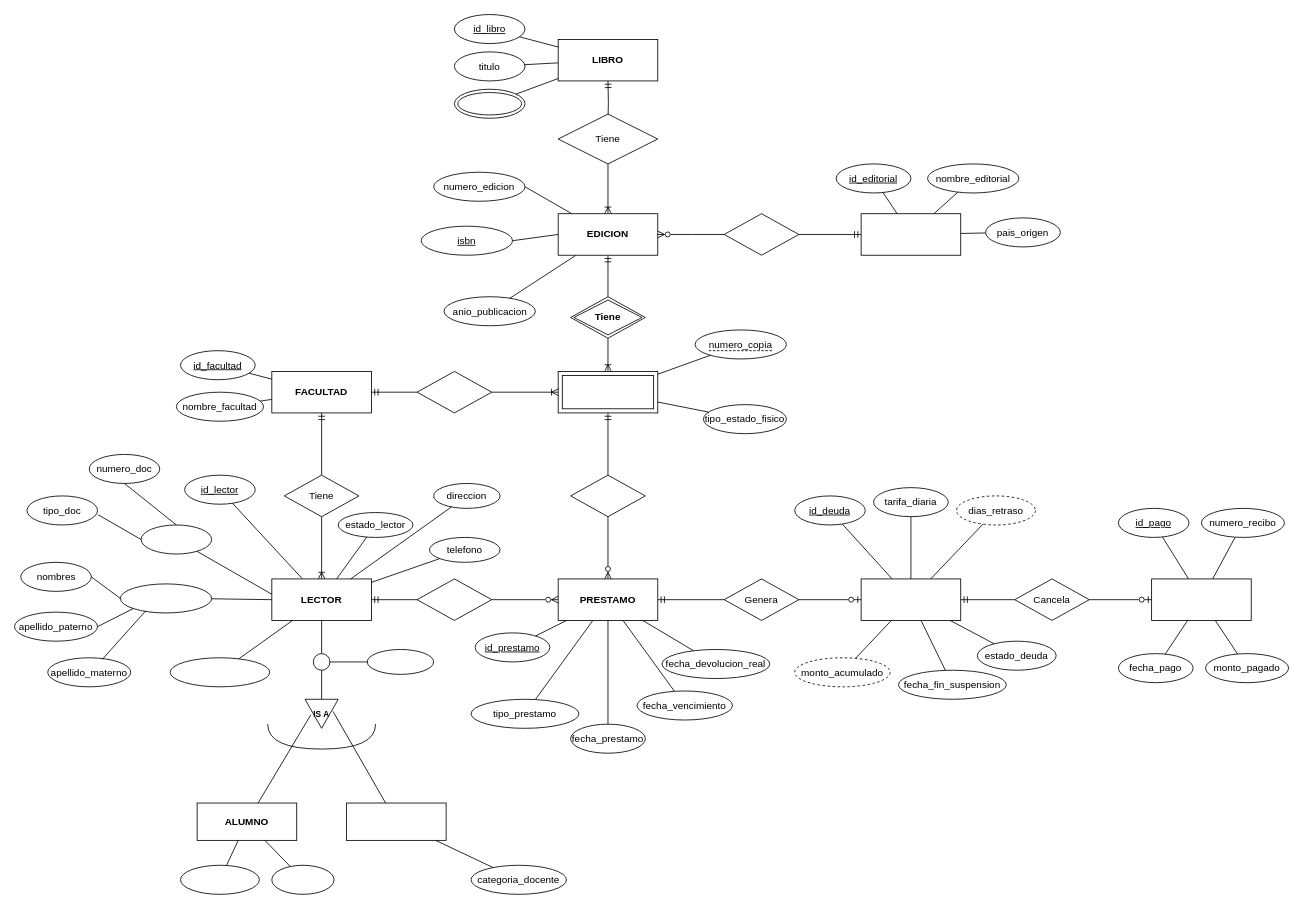
Image size: 1303x909. Some labels were removed from this diagram. The shapes that lost their labels are listed below. From the top down, each one's centre as x and y in pixels, then its label:
At point 489,103: "autor".
At point 761,234: "Publica".
At point 910,234: "EDITORIAL".
At point 454,392: "Ubica".
At point 607,392: "EJEMPLAR".
At point 607,495: "Participa".
At point 176,539: "documento".
At point 166,598: "nombre_completo".
At point 454,599: "Solicita".
At point 910,599: "DEUDA".
At point 1201,599: "PAGO".
At point 219,672: "correo_institucional".
At point 400,661: "tipo_lector".
At point 396,821: "DOCENTE".
At point 219,879: "codigo_alumno".
At point 302,879: "ciclo".
